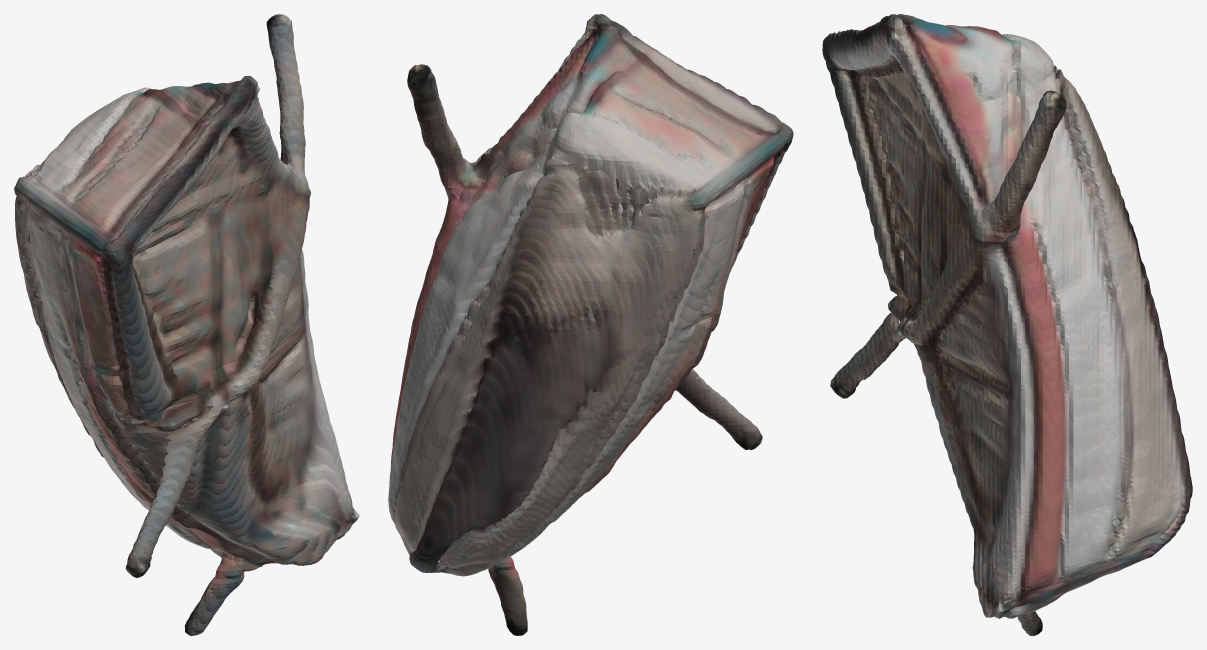
File: triposr_lifeboat.glb
The picture shows the model from 3 angles, left to right: view 1: azimuth 30°, elevation 25°; view 2: azimuth 150°, elevation 25°; view 3: azimuth 270°, elevation 25°; orthographic projection. The views are drawn at different scales.
Parts seen in each view (by area): view 1: geometry_0; view 2: geometry_0; view 3: geometry_0.
Part boxes in pixels (box(x1,y1,x2,y2)): geometry_0: box(14, 14, 359, 635); geometry_0: box(388, 14, 793, 635); geometry_0: box(822, 14, 1192, 635).
Bounding box in the file's own units: 0.6144 × 1.06 × 0.5816.
